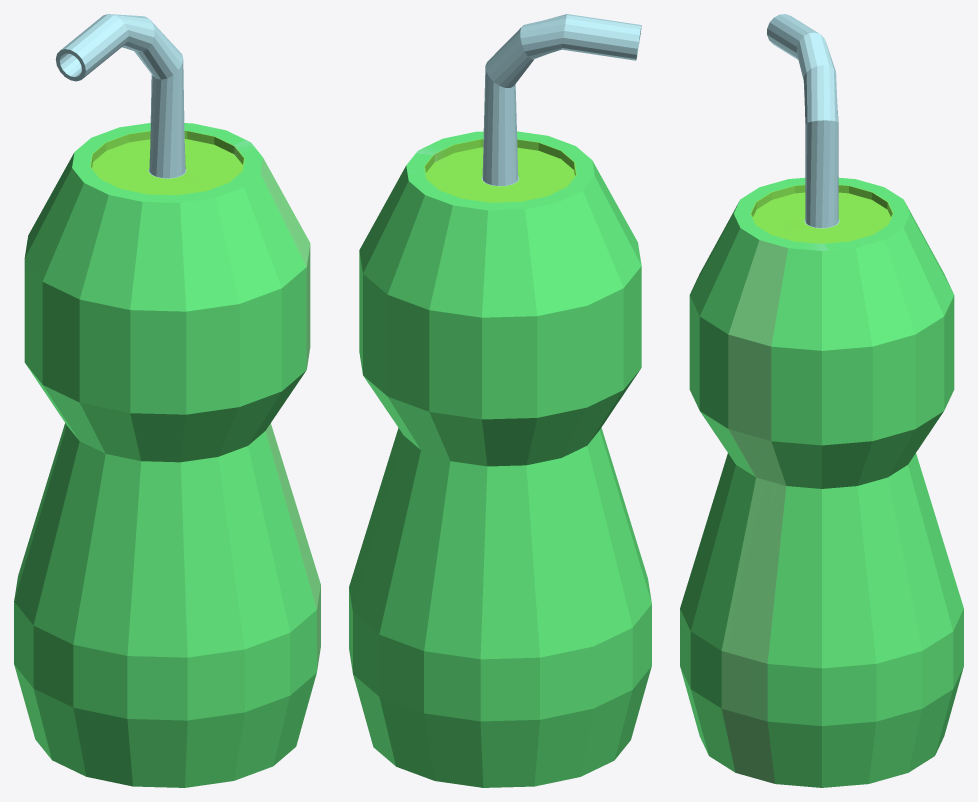
Rendered from juice.fbx.
The picture shows the model from 3 angles, left to right: view 1: azimuth 30°, elevation 25°; view 2: azimuth 150°, elevation 25°; view 3: azimuth 270°, elevation 25°; orthographic projection. The views are drawn at different scales.
Visible parts, largest first — view 1: Cylinder; view 2: Cylinder; view 3: Cylinder.
Boxes of the visible parts, left/top/right/bottom form: Cylinder: left=14, top=14, right=320, bottom=787; Cylinder: left=349, top=14, right=651, bottom=787; Cylinder: left=680, top=14, right=963, bottom=787.
Bounding box in the file's own units: 85.33 × 224 × 85.33.
Materials: 1 (1 with a texture image).
